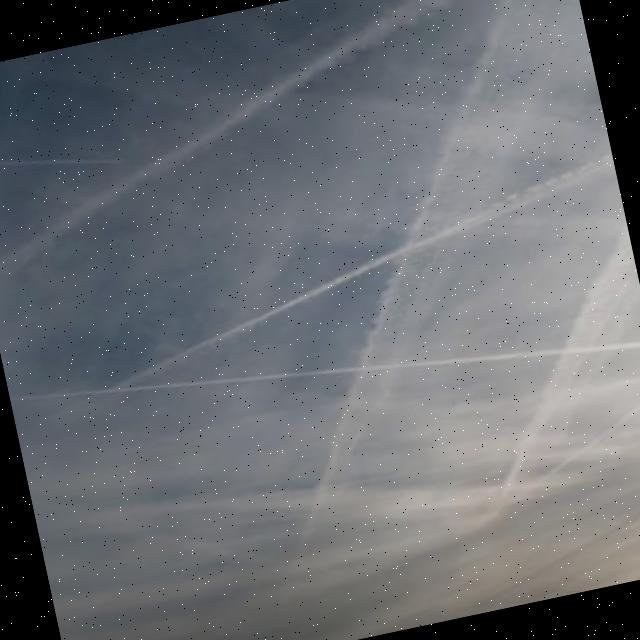Ct: (1, 1, 640, 611)
